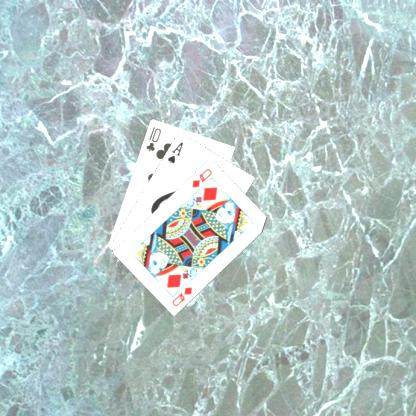10C: (143, 124, 162, 153)
AS: (164, 138, 184, 164)
QD: (190, 166, 214, 189), (170, 284, 194, 307)
